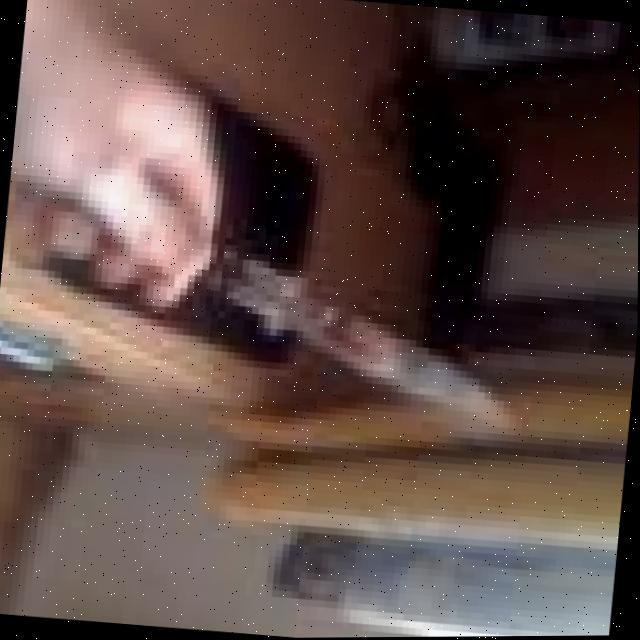knife: (198, 247, 530, 434)
